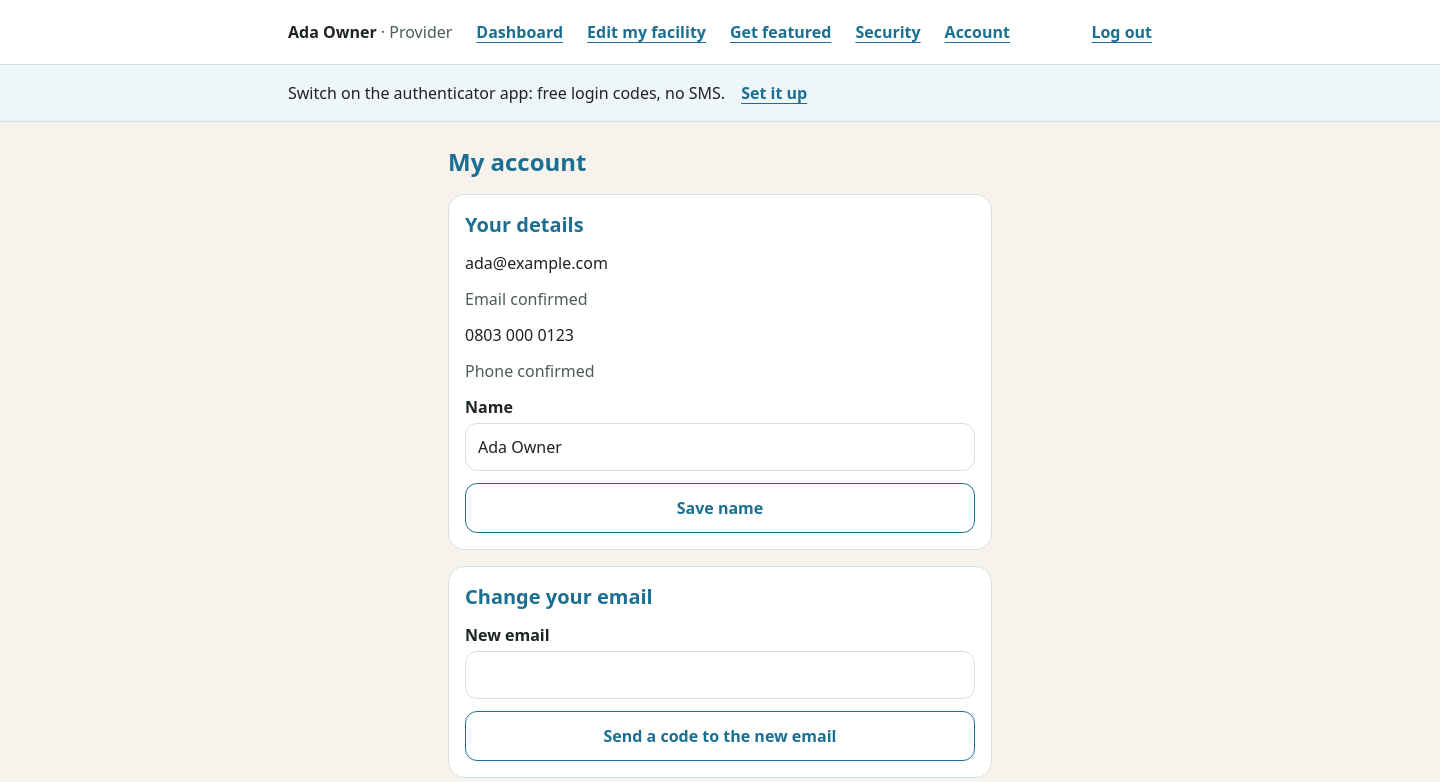
Test: your details › will not send a blank name
Expected: the heading "My account" is shown, [448,145,586,178]
Clear the field labelled "Name" at (720, 447), box [465,423,975,471]
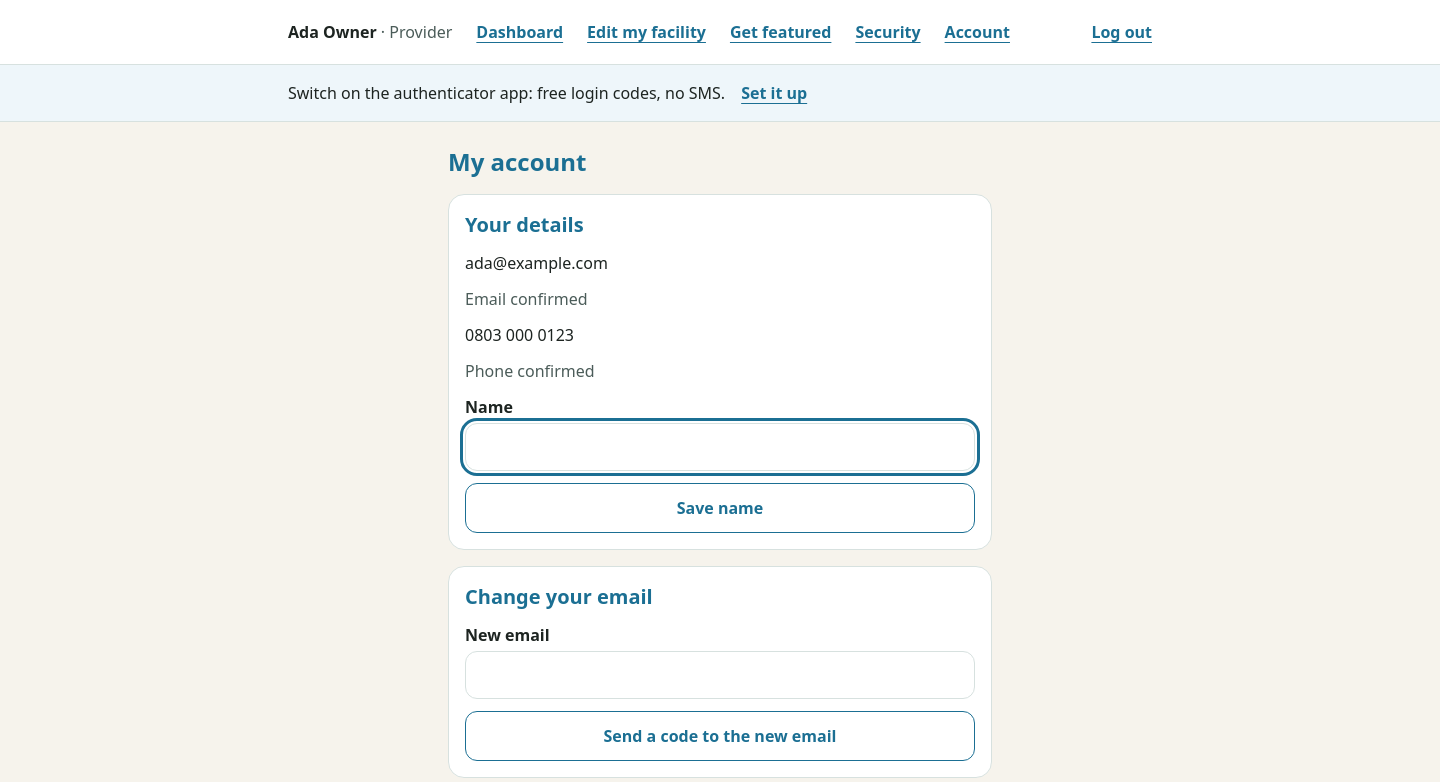
Click the button "Save name" at (720, 508), box [465,483,975,533]
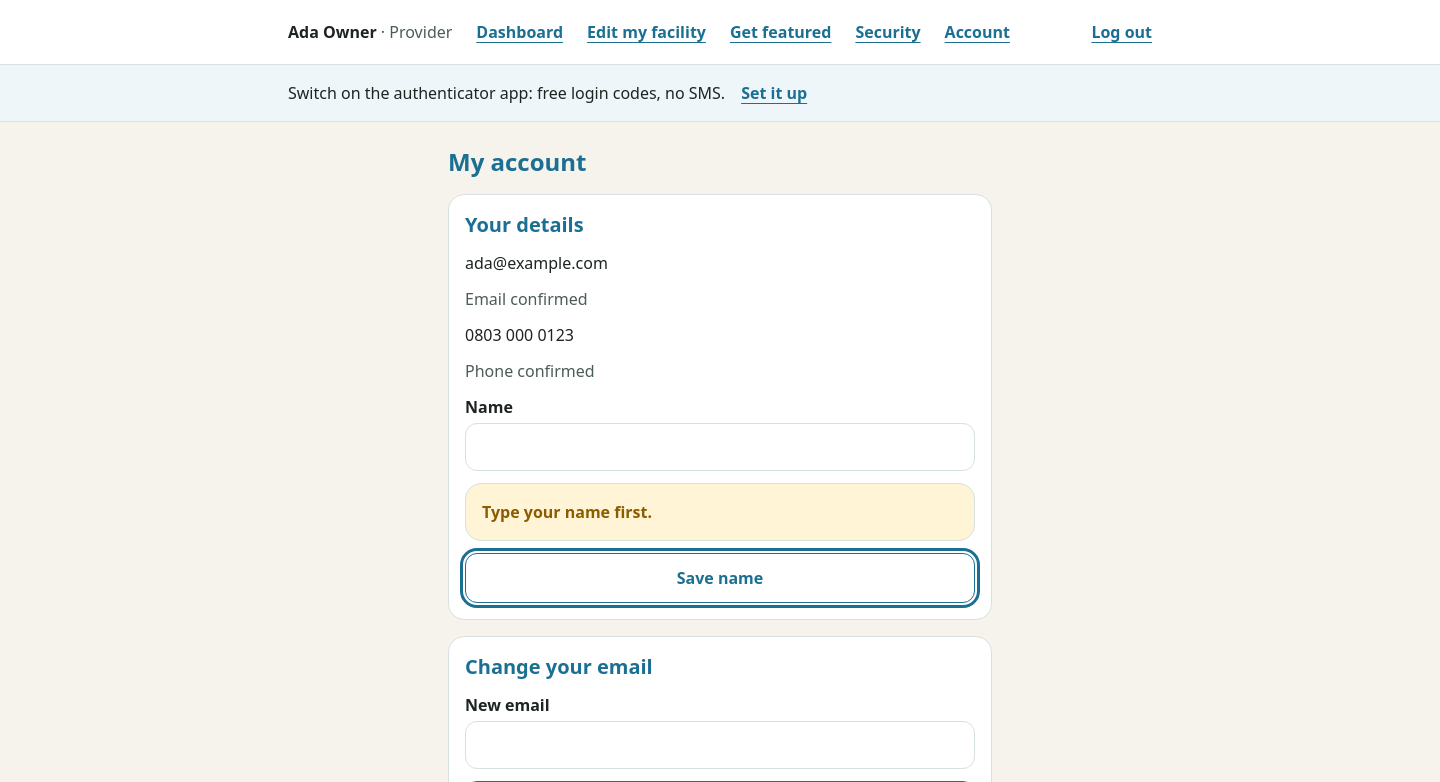
Now the text "Type your name first." is shown, box [465,483,975,541]
